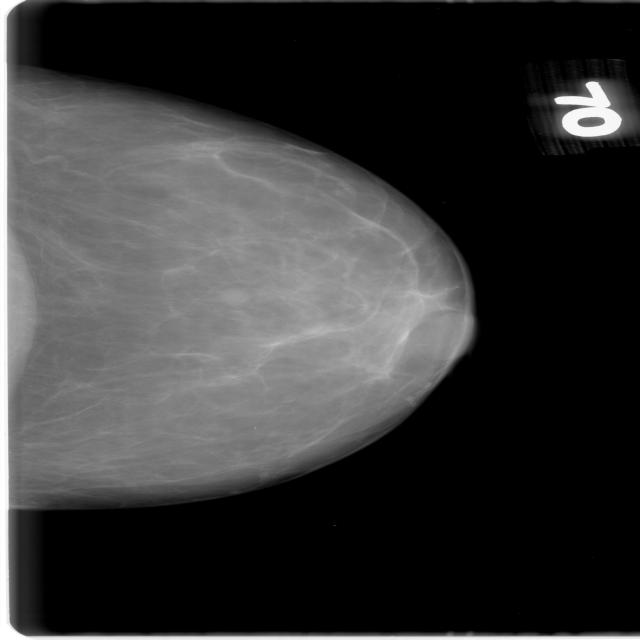normal: (0, 70, 518, 500)
